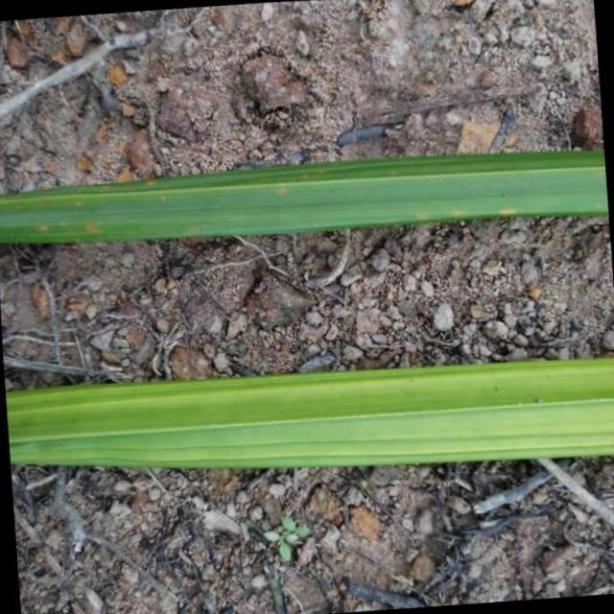nitrogen: (0, 142, 614, 251), (0, 356, 614, 464)
